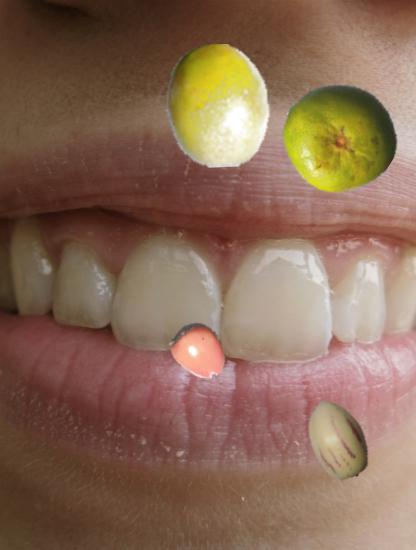Kaki: (169, 320, 231, 382)
Maracuja: (156, 44, 280, 168)
Pepino: (296, 398, 380, 482)
Pomelo: (282, 81, 397, 196)
